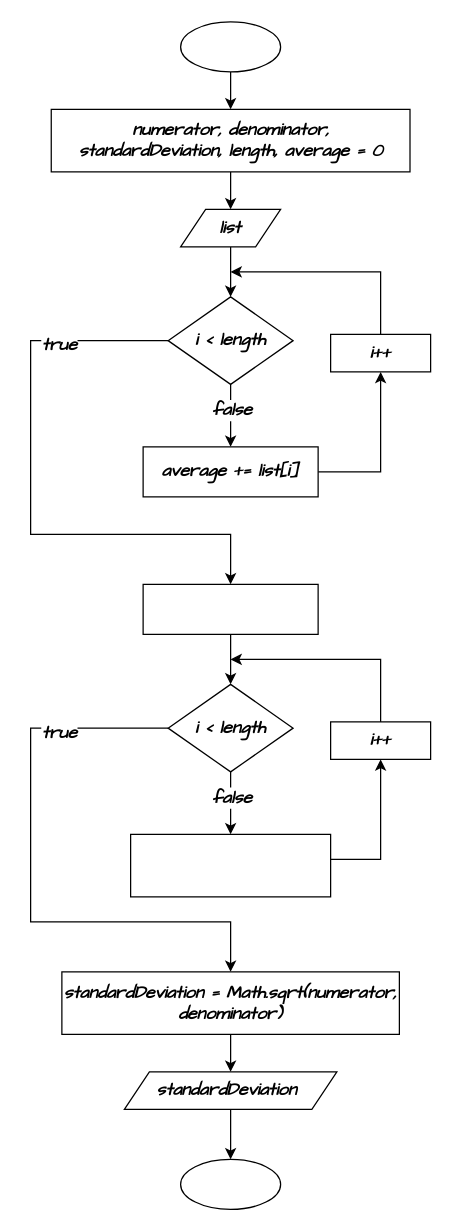
The diagram is 453 pixels wide and 1231 high, and some of its shapes have lost their labels. Each missing label, with the centre of its shape:
"average /= length" goes at [230,608].
"end" goes at [230,1183].
"numerator += Math.pow(list[i], 2)" goes at [230,865].
"start" goes at [230,46].
